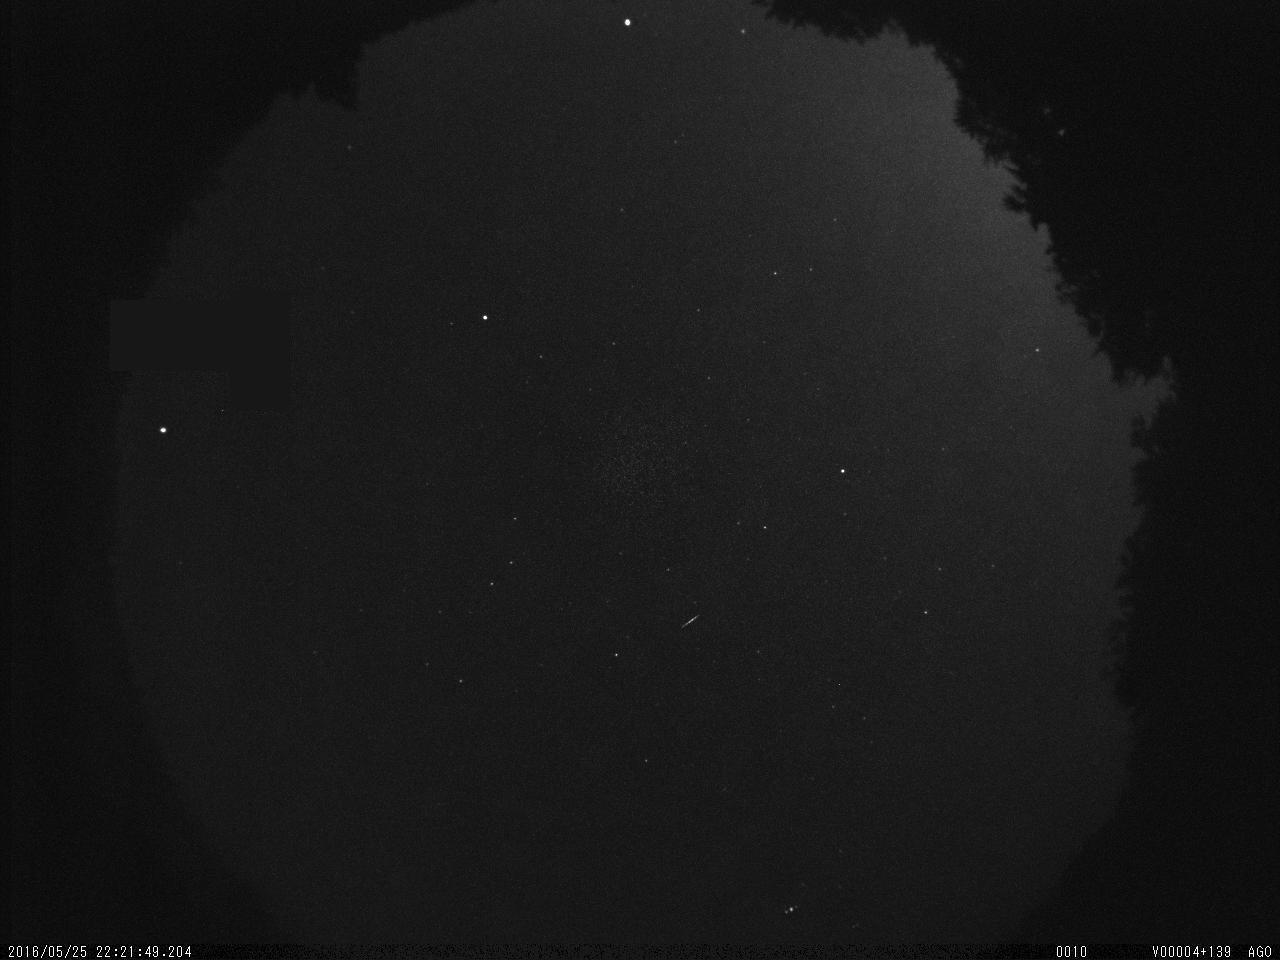Meteor: (678, 610, 701, 628)
